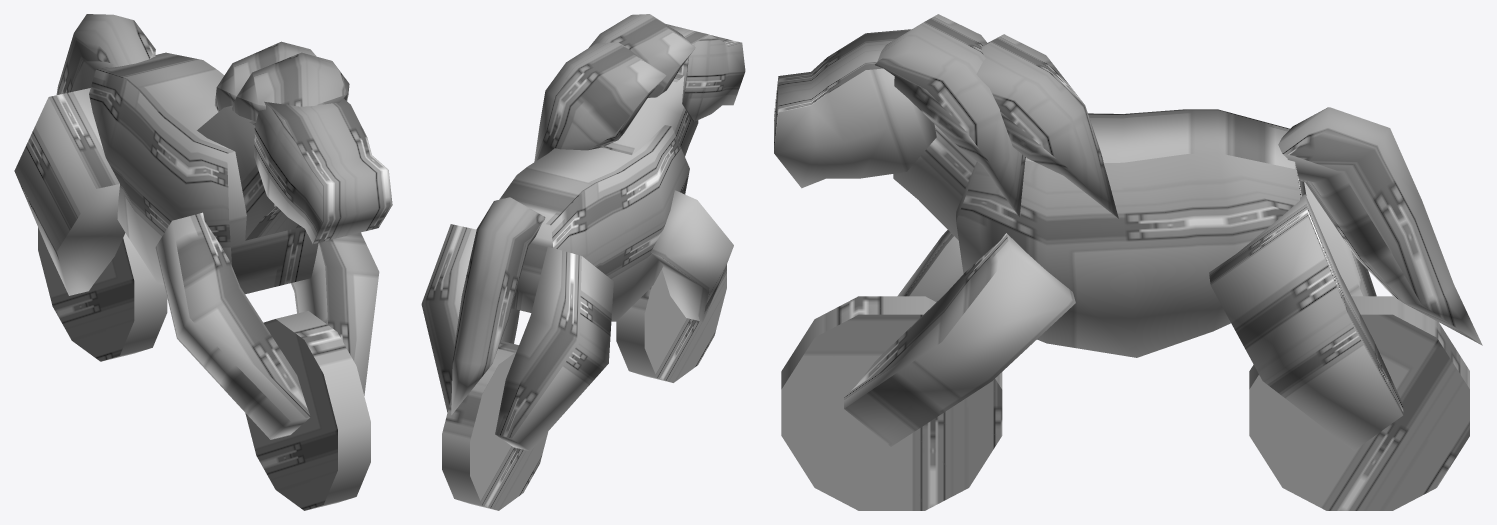
Rendered from PonyBike.fbx.
3 views of the same model, side by side, from view 1: azimuth 30°, elevation 25°; view 2: azimuth 150°, elevation 25°; view 3: azimuth 270°, elevation 25° (orthographic). The views are drawn at different scales.
Parts seen in each view (by area): view 1: PonyBike; view 2: PonyBike; view 3: PonyBike.
Boxes of the visible parts, <box> form: PonyBike: <box>14,14,392,510</box>; PonyBike: <box>421,14,745,510</box>; PonyBike: <box>774,14,1482,510</box>.
Size of the model in its own units: 53.36 by 114 by 150.
1 material, 1 textured.
